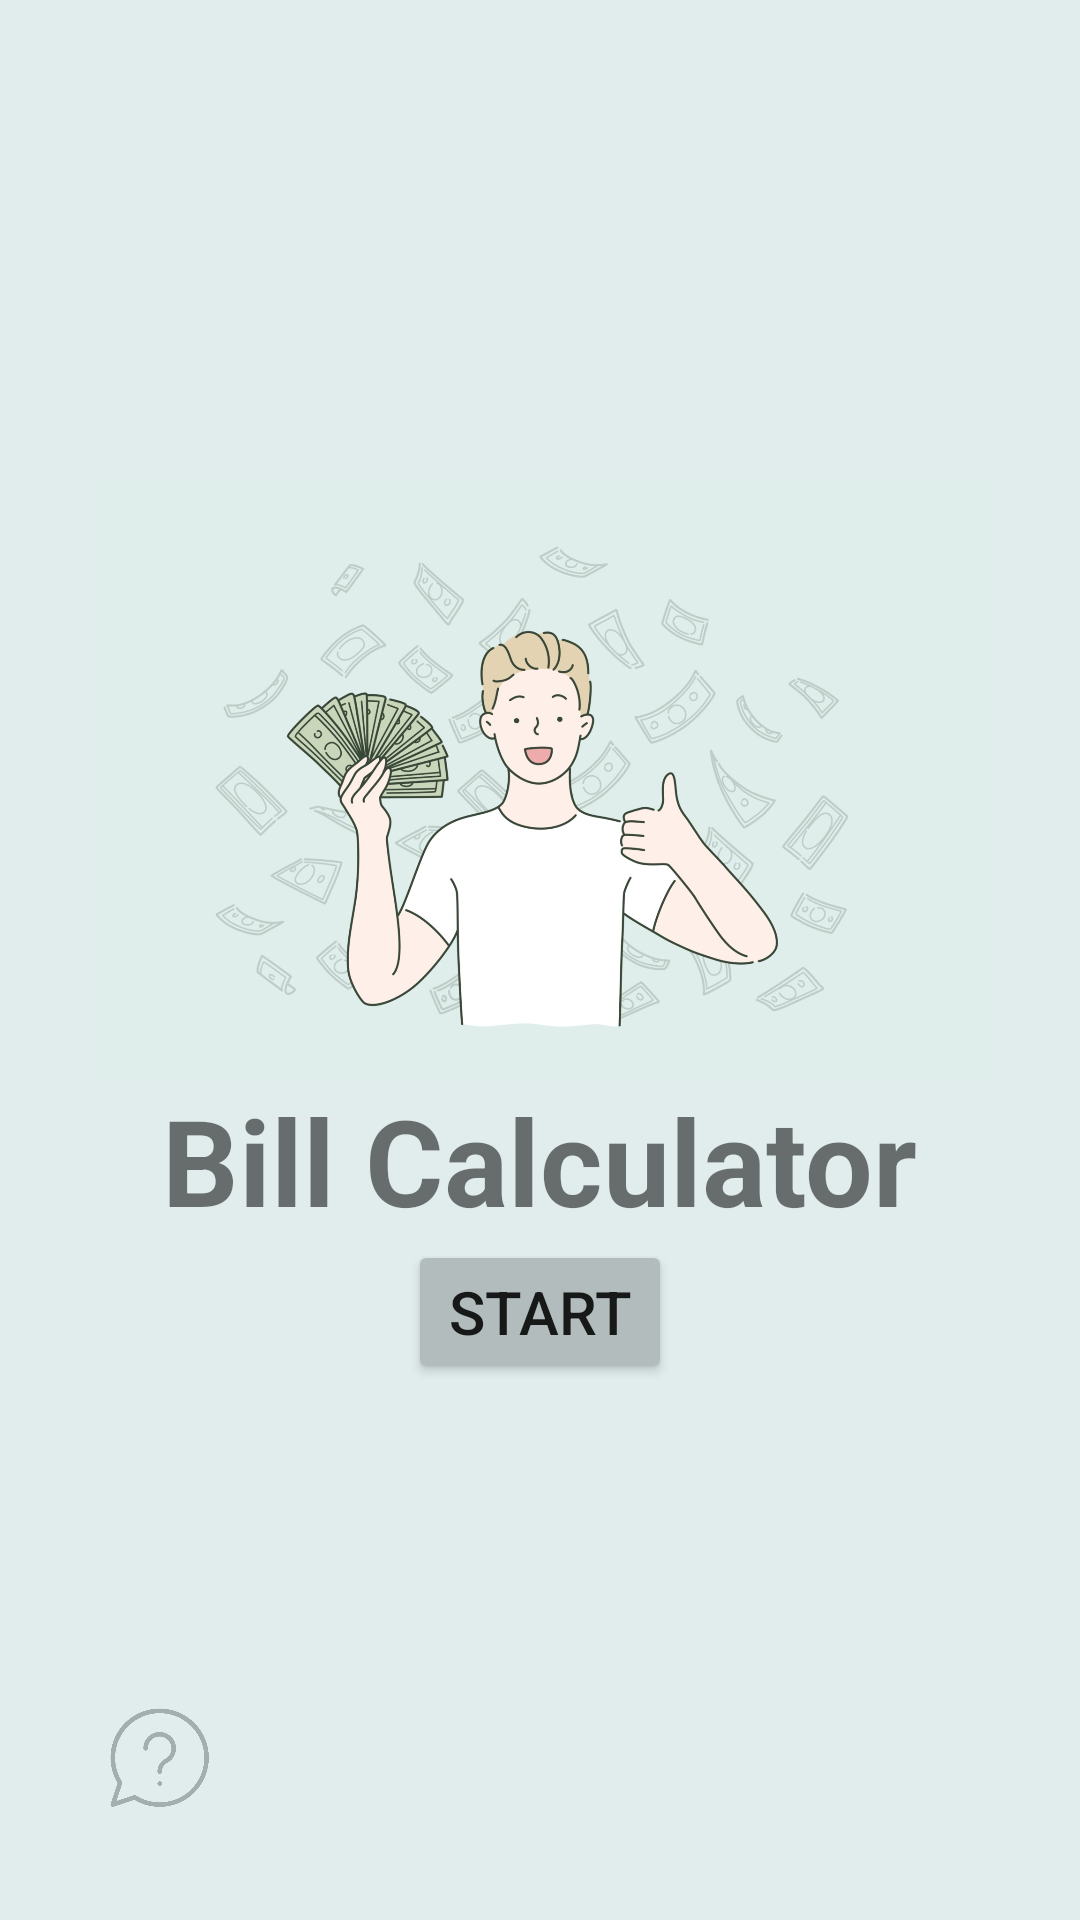

Icon bounding boxes for this 1080px×1920px phone screenshot, format [left=x1, top=y1, right=x2, bottom=y2]:
help: [left=110, top=1709, right=209, bottom=1807]
